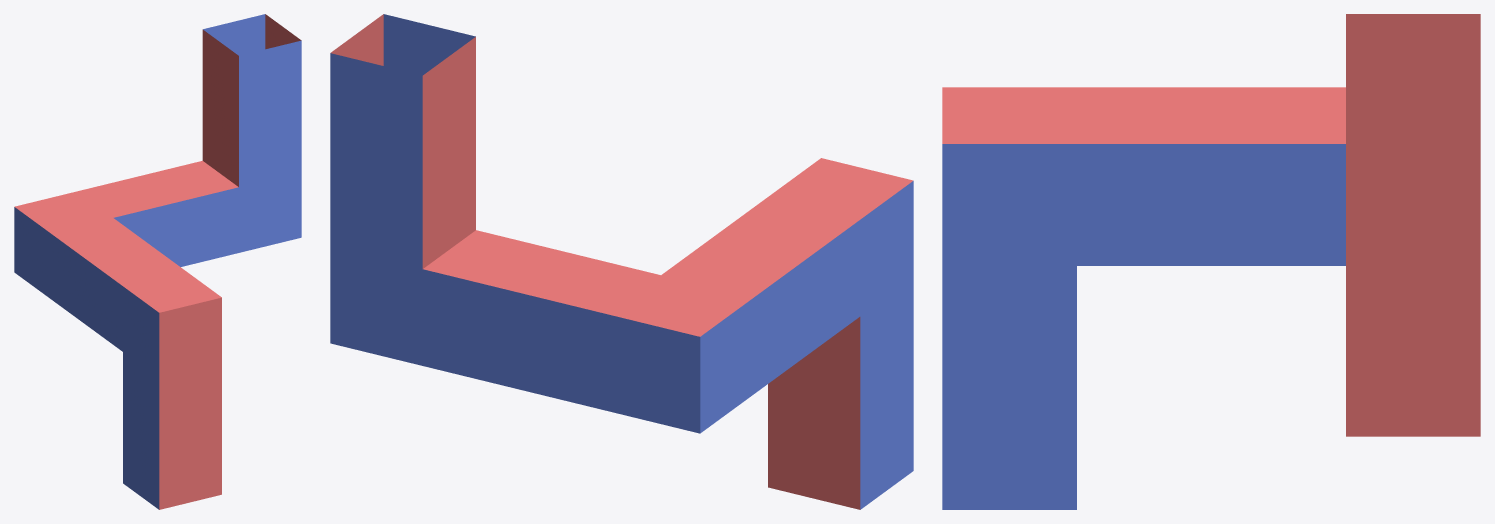
File: move_rotation.dae
The picture shows the model from 3 angles, left to right: view 1: azimuth 30°, elevation 25°; view 2: azimuth 150°, elevation 25°; view 3: azimuth 270°, elevation 25°; orthographic projection. The views are drawn at different scales.
Visible parts, largest first — view 1: XZO (×4), ZXO (×2), OZX (×2), ZOX (×2), ZXX (×3), ZZX (×2), XZX; view 2: XZO (×4), OZX (×2), ZXO (×2), ZOX (×2), ZZX (×3), ZXX (×2), XZX; view 3: ZOX (×2), XZO (×2), ZXO, ZXX (×2), XZX.
Boxes of the visible parts, <box> form: XZO (×4): <box>202,14,301,186</box>; ZXO (×2): <box>123,352,221,509</box>; OZX (×2): <box>77,161,238,266</box>; ZOX (×2): <box>50,218,185,351</box>; ZXX (×3): <box>123,271,221,378</box>; ZZX (×2): <box>14,191,112,298</box>; XZX: <box>239,172,301,252</box>; XZO (×4): <box>330,14,475,268</box>; OZX (×2): <box>422,230,660,410</box>; ZXO (×2): <box>768,277,913,509</box>; ZOX (×2): <box>661,197,860,393</box>; ZZX (×3): <box>607,275,753,433</box>; ZXX (×2): <box>768,158,913,315</box>; XZX: <box>330,246,422,365</box>; ZOX (×2): <box>1077,87,1345,265</box>; XZO (×2): <box>1346,14,1480,314</box>; ZXO: <box>942,266,1076,509</box>; ZXX (×2): <box>942,87,1076,265</box>; XZX: <box>1346,314,1480,436</box>.
Bounding box in the file's own units: 4 × 4 × 5.
